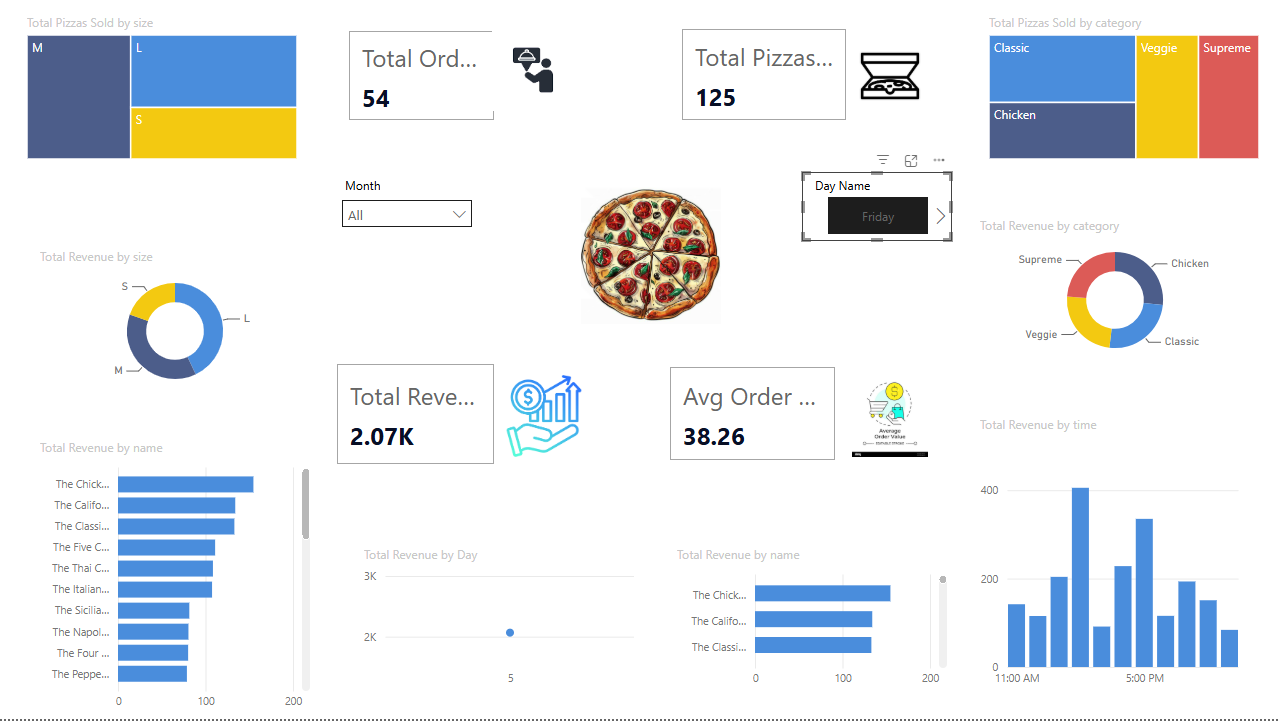

Layout of this report page (visuals, bound fields, positions):
{"tool":"powerbi","page":{"name":"Page 1","canvas":[1280,720],"ordinal":0},"visuals":[{"type":"clusteredColumnChart","fields":{"Category":["Cleaned_pizza_sales sql.time"],"Y":["Cleaned_pizza_sales sql.Total Revenue"]},"box":[976,417,280,280],"z":1},{"type":"barChart","fields":{"Category":["Cleaned_pizza_sales sql.name"],"Y":["Cleaned_pizza_sales sql.Total Revenue"]},"box":[36,440,280,280],"z":2},{"type":"donutChart","fields":{"Category":["Cleaned_pizza_sales sql.size"],"Y":["Cleaned_pizza_sales sql.Total Revenue"]},"box":[36,249,280,150],"z":3},{"type":"treemap","fields":{"Values":["Cleaned_pizza_sales sql.Total Pizzas Sold"],"Group":["Cleaned_pizza_sales sql.category"]},"box":[985,15,280,150],"z":4},{"type":"areaChart","fields":{"Y":["Cleaned_pizza_sales sql.Total Revenue"],"Category":["Cleaned_pizza_sales sql.date.Variation.Date Hierarchy.Day"]},"box":[360,547,280,150],"z":5},{"type":"donutChart","fields":{"Category":["Cleaned_pizza_sales sql.category"],"Y":["Cleaned_pizza_sales sql.Total Revenue"]},"box":[976,218,280,150],"z":6},{"type":"barChart","fields":{"Category":["Cleaned_pizza_sales sql.name"],"Y":["Cleaned_pizza_sales sql.Total Revenue"]},"box":[673,547,280,150],"z":7},{"type":"treemap","fields":{"Group":["Cleaned_pizza_sales sql.size"],"Values":["Cleaned_pizza_sales sql.Total Pizzas Sold"]},"box":[23,15,280,150],"z":8},{"type":"cardVisual","fields":{"Data":["Cleaned_pizza_sales sql.Total Revenue"]},"box":[333,360,167,110],"z":9},{"type":"cardVisual","fields":{"Data":["Cleaned_pizza_sales sql.Total Orders"]},"box":[345,27,155,99],"z":10},{"type":"cardVisual","fields":{"Data":["Cleaned_pizza_sales sql.Avg Order Value"]},"box":[666,363,175,103],"z":11},{"type":"cardVisual","fields":{"Data":["Cleaned_pizza_sales sql.Total Pizzas Sold"]},"box":[678,25,174,101],"z":12},{"type":"image","box":[512,180,280,150],"z":13},{"type":"image","box":[829,31,124,92],"z":15},{"type":"image","box":[829,371,124,92],"z":16},{"type":"image","box":[472,25,124,92],"z":17},{"type":"image","box":[483,371,124,92],"z":18},{"type":"slicer","fields":{"Values":["Cleaned_pizza_sales sql.Day Name"]},"box":[803,173,150,69],"z":19},{"type":"slicer","fields":{"Values":["Cleaned_pizza_sales sql.date.Variation.Date Hierarchy.Month"]},"box":[333,173,150,69],"z":20}]}

Visuals, with their boxes in screenshot pixels (x1, y1, x2, y2), scaled from the page's 1280x720 canvas onto the 1279x722 screenshot:
clusteredColumnChart - Cleaned_pizza_sales sql.time x Cleaned_pizza_sales sql.Total Revenue: bbox=[975, 418, 1255, 699]
barChart - Cleaned_pizza_sales sql.name x Cleaned_pizza_sales sql.Total Revenue: bbox=[36, 441, 316, 721]
donutChart - Cleaned_pizza_sales sql.size x Cleaned_pizza_sales sql.Total Revenue: bbox=[36, 250, 316, 400]
treemap - Cleaned_pizza_sales sql.Total Pizzas Sold x Cleaned_pizza_sales sql.category: bbox=[984, 15, 1264, 165]
areaChart - Cleaned_pizza_sales sql.Total Revenue x Cleaned_pizza_sales sql.date.Variation.Date Hierarchy.Day: bbox=[360, 549, 640, 699]
donutChart - Cleaned_pizza_sales sql.category x Cleaned_pizza_sales sql.Total Revenue: bbox=[975, 219, 1255, 369]
barChart - Cleaned_pizza_sales sql.name x Cleaned_pizza_sales sql.Total Revenue: bbox=[672, 549, 952, 699]
treemap - Cleaned_pizza_sales sql.size x Cleaned_pizza_sales sql.Total Pizzas Sold: bbox=[23, 15, 303, 165]
cardVisual - Cleaned_pizza_sales sql.Total Revenue: bbox=[333, 361, 500, 471]
cardVisual - Cleaned_pizza_sales sql.Total Orders: bbox=[345, 27, 500, 126]
cardVisual - Cleaned_pizza_sales sql.Avg Order Value: bbox=[665, 364, 840, 467]
cardVisual - Cleaned_pizza_sales sql.Total Pizzas Sold: bbox=[677, 25, 851, 126]
image: bbox=[512, 180, 791, 331]
image: bbox=[828, 31, 952, 123]
image: bbox=[828, 372, 952, 464]
image: bbox=[472, 25, 596, 117]
image: bbox=[483, 372, 607, 464]
slicer - Cleaned_pizza_sales sql.Day Name: bbox=[802, 173, 952, 243]
slicer - Cleaned_pizza_sales sql.date.Variation.Date Hierarchy.Month: bbox=[333, 173, 483, 243]
